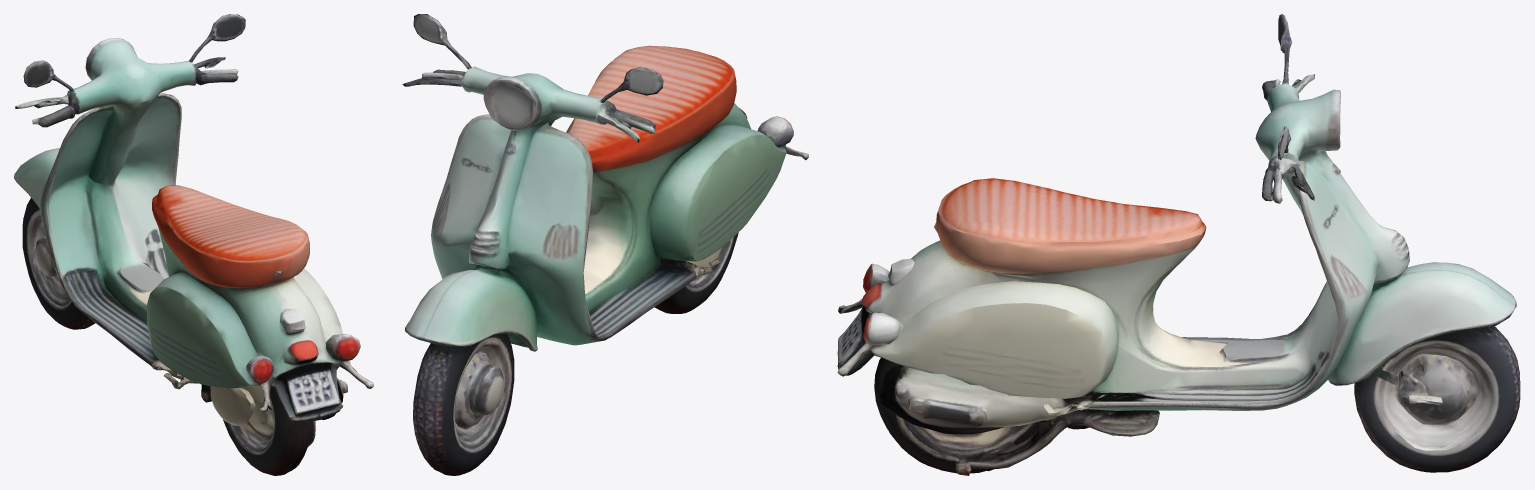
File: scooter125.glb
3 renders of one model, left to right at view 1: azimuth 30°, elevation 25°; view 2: azimuth 150°, elevation 25°; view 3: azimuth 270°, elevation 25°, orthographic. The views are drawn at different scales.
Visible parts, largest first — view 1: world_0; view 2: world_0; view 3: world_0.
Part boxes in pixels (x1=…): world_0: x1=14, y1=14, x2=373, y2=475; world_0: x1=402, y1=14, x2=808, y2=475; world_0: x1=837, y1=14, x2=1520, y2=475.
Bounding box in the file's own units: 0.4474 × 0.6467 × 1.
Materials: 1 (1 with a texture image).
